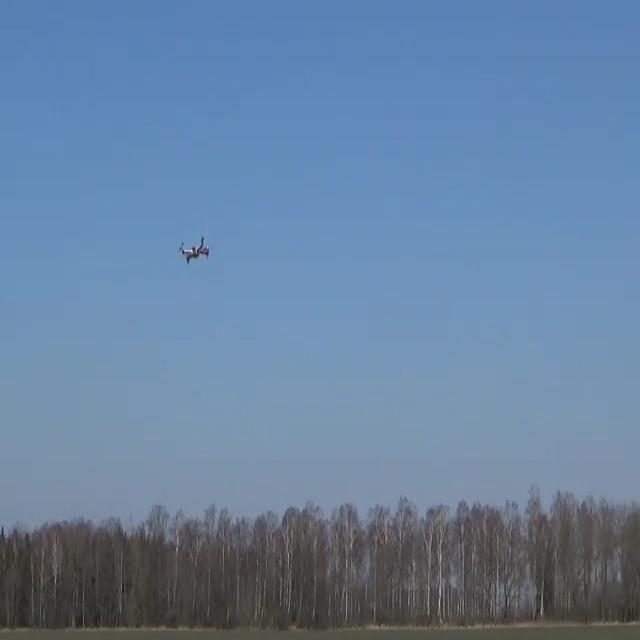drone: (178, 235, 210, 264)
